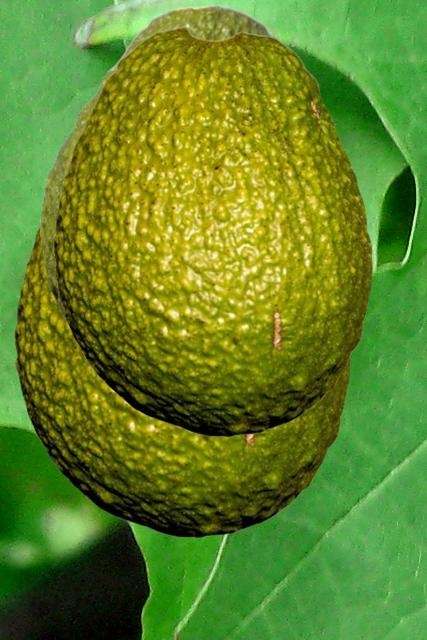avocado: (53, 26, 371, 436), (14, 222, 349, 537), (40, 4, 278, 325)
